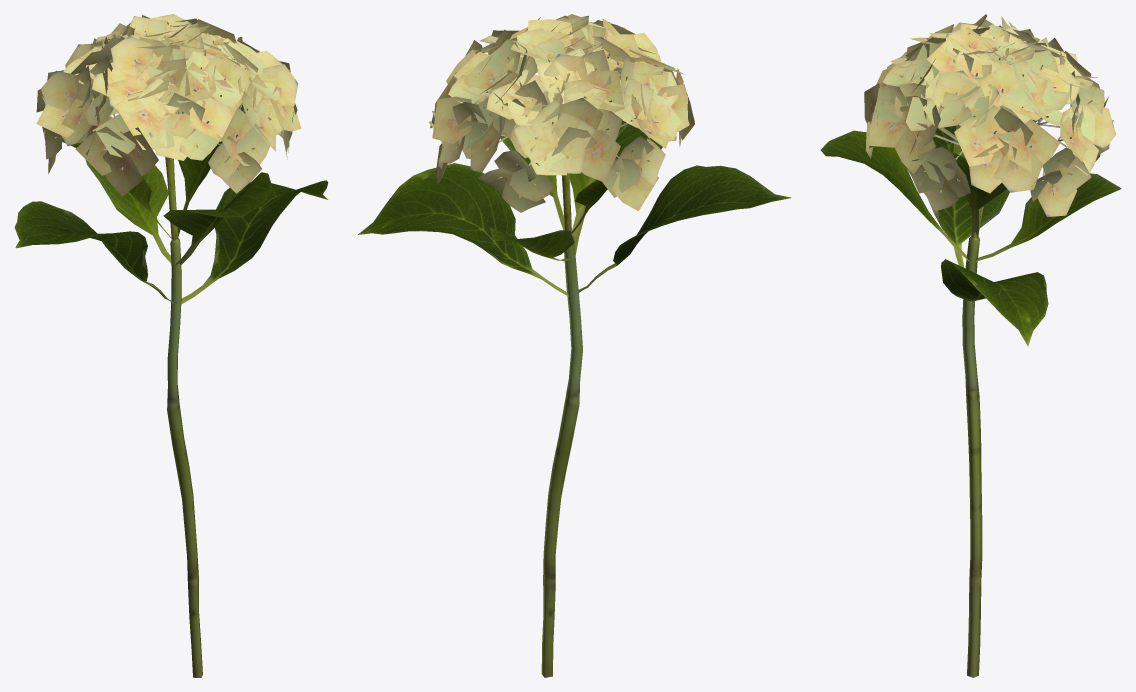
File: Hydrangea_OG_normal_yellowgreen.glb
3 renders of one model, left to right at view 1: azimuth 30°, elevation 25°; view 2: azimuth 150°, elevation 25°; view 3: azimuth 270°, elevation 25°, orthographic. The views are drawn at different scales.
Visible parts, largest first — view 1: Hydrangea; view 2: Hydrangea; view 3: Hydrangea.
Part boxes in pixels (<box>): Hydrangea: <box>14,14,328,677</box>; Hydrangea: <box>358,14,791,677</box>; Hydrangea: <box>820,14,1121,677</box>.
Size of the model in its own units: 1.38 by 2.31 by 1.
Materials: 1 (1 with a texture image).
